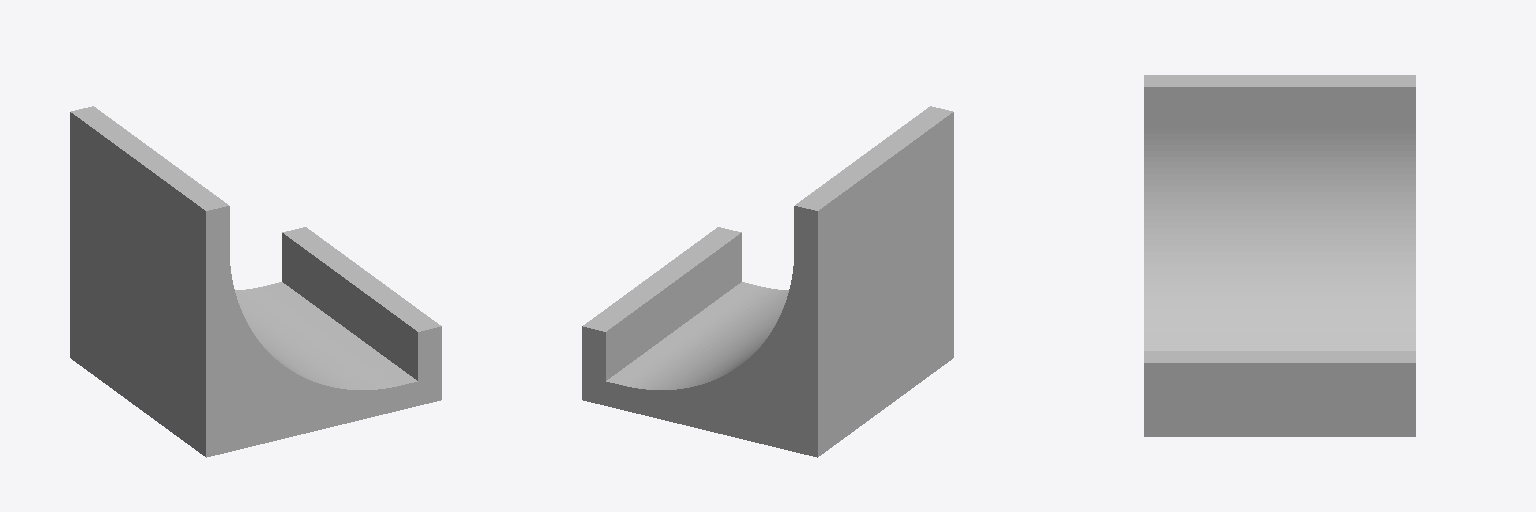
Rendered from BankedStraight.obj.
3 renders of one model, left to right at view 1: azimuth 30°, elevation 25°; view 2: azimuth 150°, elevation 25°; view 3: azimuth 270°, elevation 25°, orthographic.
Parts seen in each view (by area): view 1: BankedStraight; view 2: BankedStraight; view 3: BankedStraight.
Part boxes in pixels (x1,y1,x2,y2): BankedStraight: (70,106,441,457); BankedStraight: (582,106,953,457); BankedStraight: (1144,75,1415,436).
Size of the model in its own units: 2 by 2 by 2.